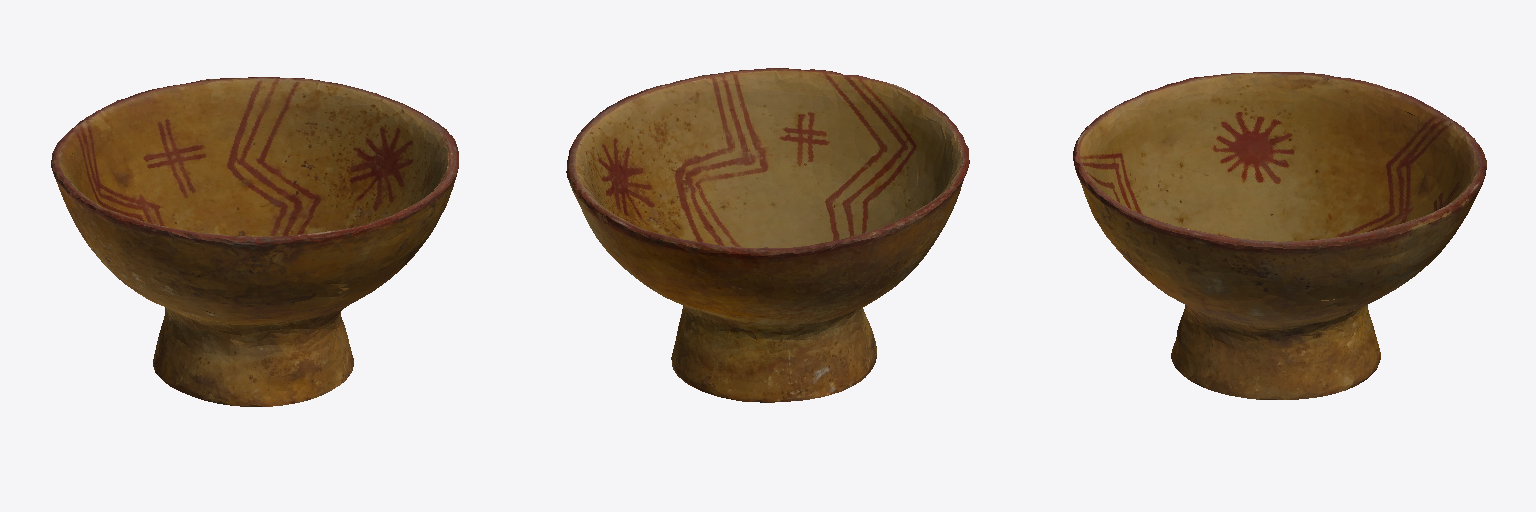
3 renders of one model, left to right at view 1: azimuth 30°, elevation 25°; view 2: azimuth 150°, elevation 25°; view 3: azimuth 270°, elevation 25°, orthographic.
Visible parts, largest first — view 1: piece3227; view 2: piece3227; view 3: piece3227.
Boxes of the visible parts, x1=… form: piece3227: x1=51, y1=77, x2=458, y2=406; piece3227: x1=566, y1=68, x2=969, y2=402; piece3227: x1=1073, y1=72, x2=1486, y2=399.
Bounding box in the file's own units: 0.4246 × 0.2409 × 0.4341.
Materials: 1 (1 with a texture image).